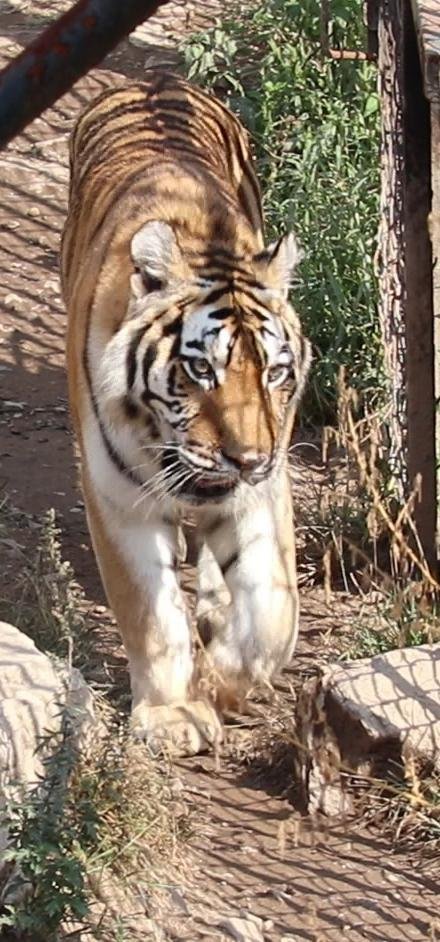tiger: (61, 69, 311, 754)
